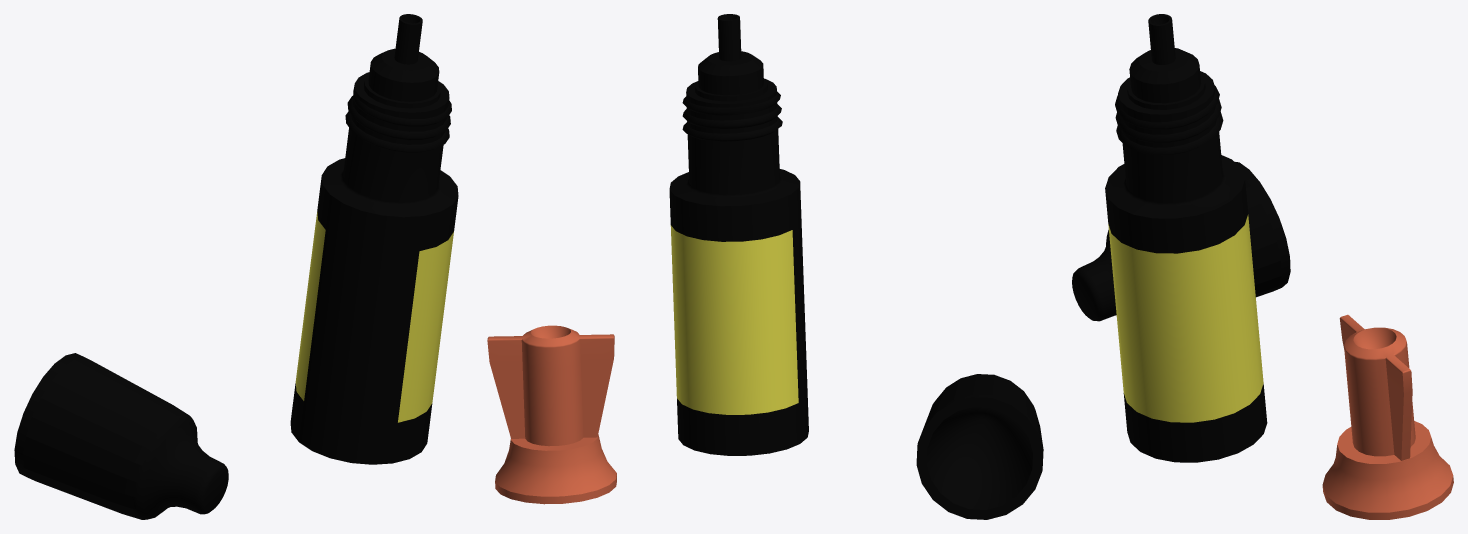
The model's file is Primer Assets.fbx.
3 renders of one model, left to right at view 1: azimuth 30°, elevation 25°; view 2: azimuth 150°, elevation 25°; view 3: azimuth 270°, elevation 25°, orthographic. The views are drawn at different scales.
Parts seen in each view (by area): view 1: Primer_Bottle, Primer_Cap; view 2: Primer_Bottle, Primer_Stand, Primer_Cap; view 3: Primer_Bottle, Primer_Stand, Primer_Cap.
Boxes of the visible parts, x1,y1,x2,y2 form: Primer_Bottle: (290,14,458,464); Primer_Cap: (14,353,228,519); Primer_Bottle: (669,14,808,455); Primer_Stand: (487,325,616,504); Primer_Cap: (916,374,1043,519); Primer_Bottle: (1105,14,1267,462); Primer_Stand: (1322,314,1453,519); Primer_Cap: (1072,161,1290,321).
Size of the model in its own units: 19.48 by 16.25 by 12.75.
